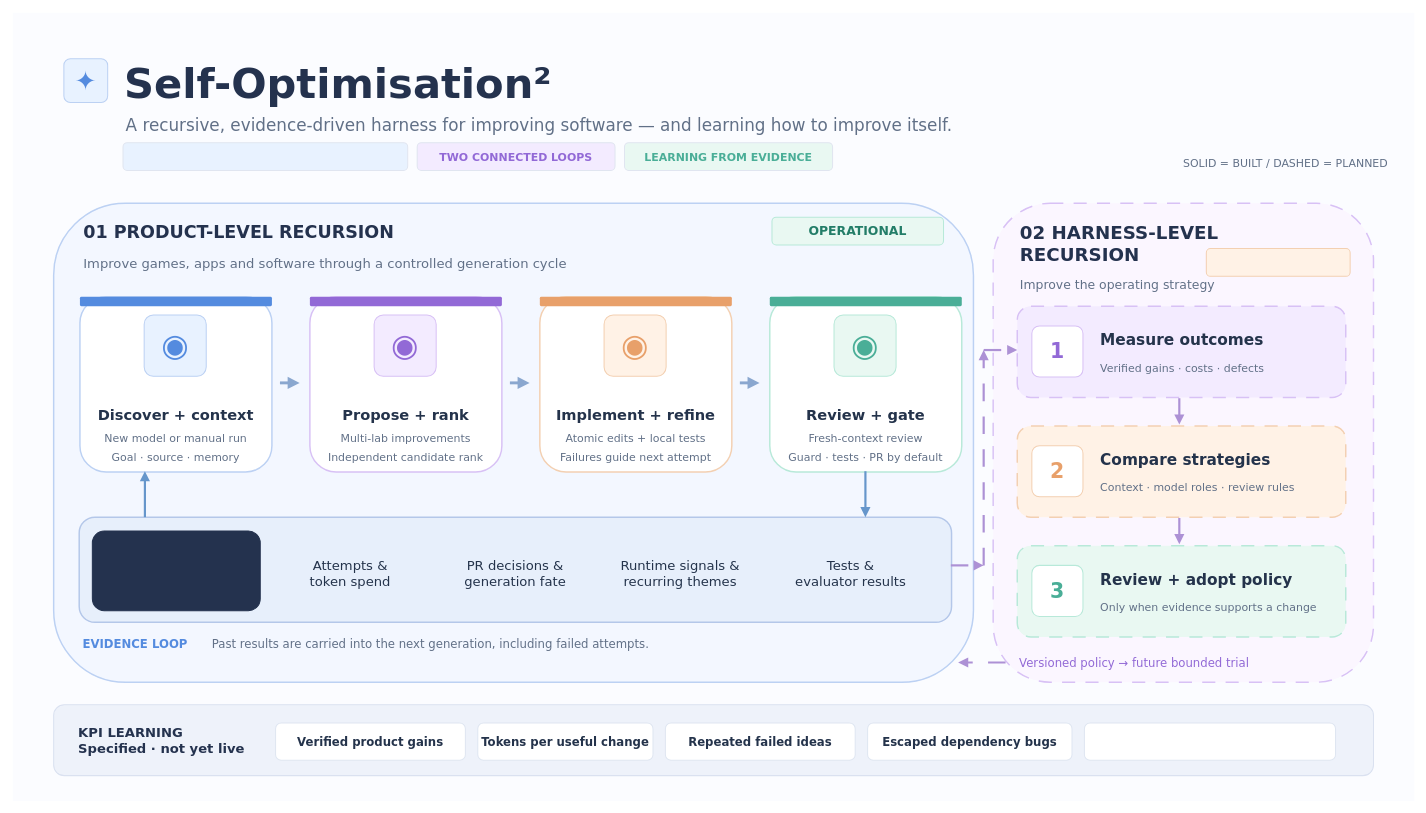
The diagram is 1426 pixels wide and 813 high, and some of its shapes have lost their labels. Each missing label, with the box of its shape:
GOVERNED SOFTWARE IMPROVEMENT: (122, 142, 408, 171)
Independent review accuracy: (1084, 722, 1336, 760)
PERSISTENT MEMORY feeds the next run: (91, 530, 260, 611)
PROPOSED: (1205, 248, 1350, 276)
